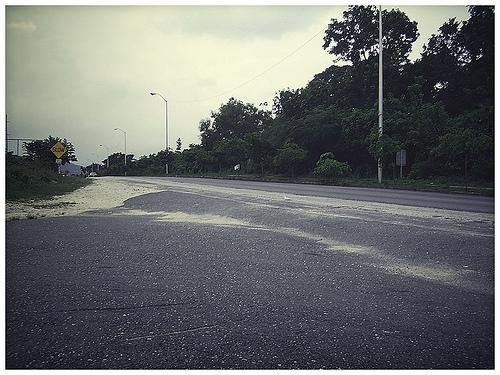car: (89, 172, 99, 176)
